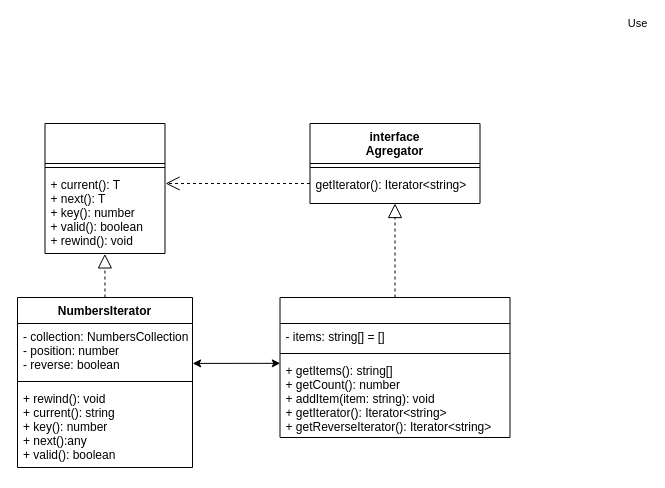
Image size: 665x488. Some labels were removed from this diagram. Each missing label, with the box of its shape:
interface Iterator: (44, 122, 165, 254)
NumbersCollection: (279, 296, 510, 438)
